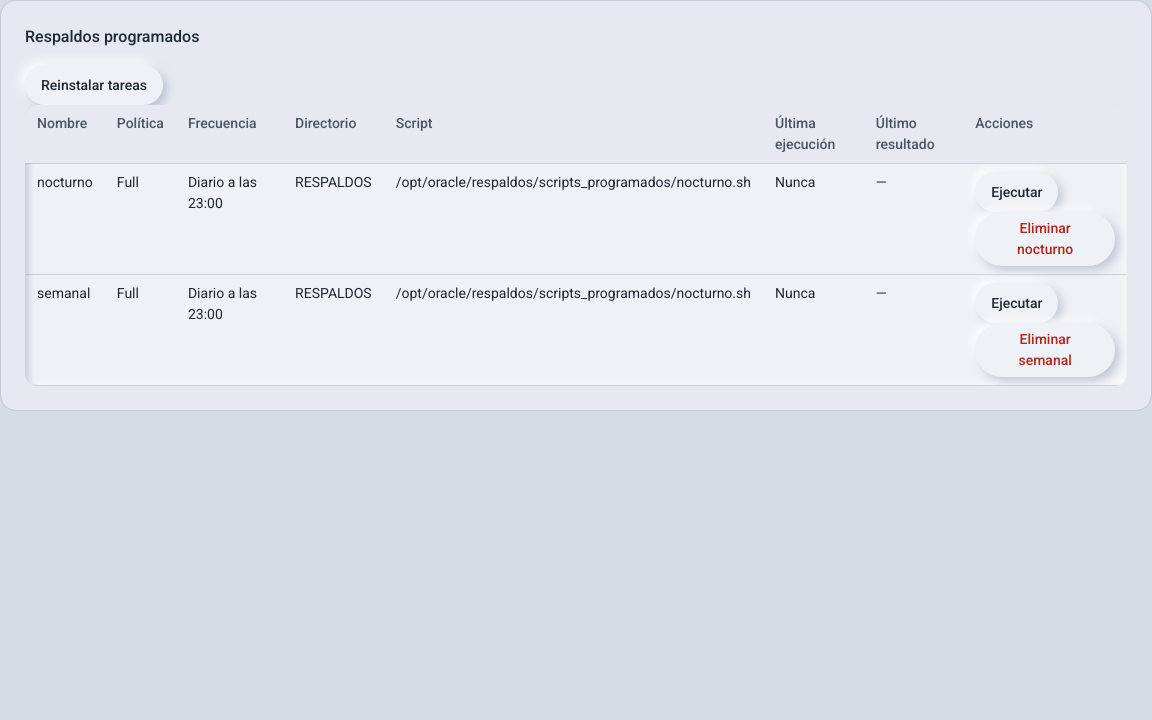
it: botón Ejecutar › en éxito muestra «Respaldo ejecutado» con el log y recarga la lista
Click the button with aria-label "Ejecutar nocturno". click: (1017, 192)
box: [975, 172, 1058, 212]
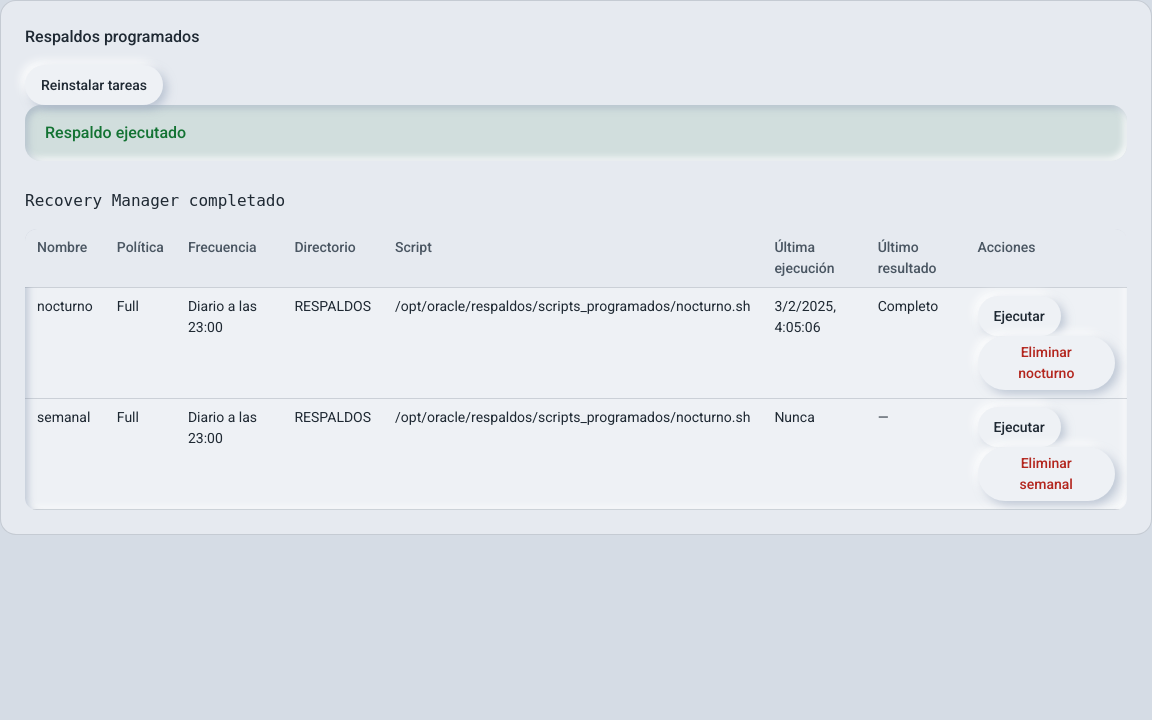
Expected: the message reads "Respaldo ejecutado", [45, 123, 186, 142]
Expected: the text "Recovery Manager completado" is shown, [25, 191, 285, 210]
Expected: the text "Completo" is shown, [866, 288, 966, 398]
